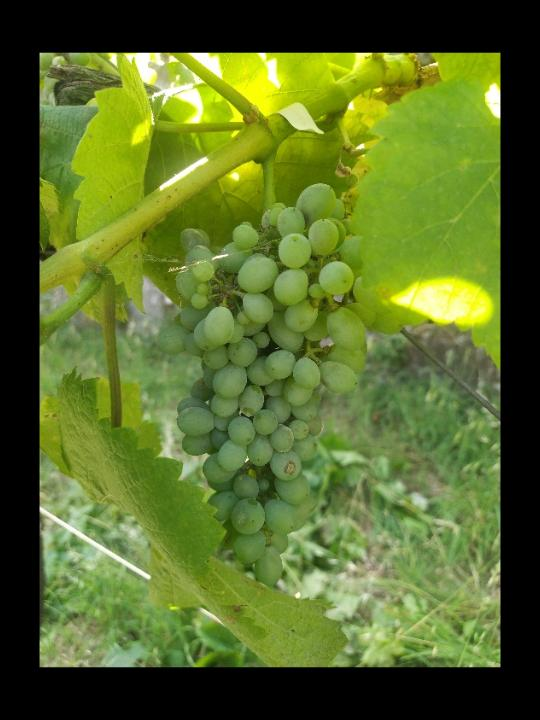grape: (169, 180, 376, 593)
